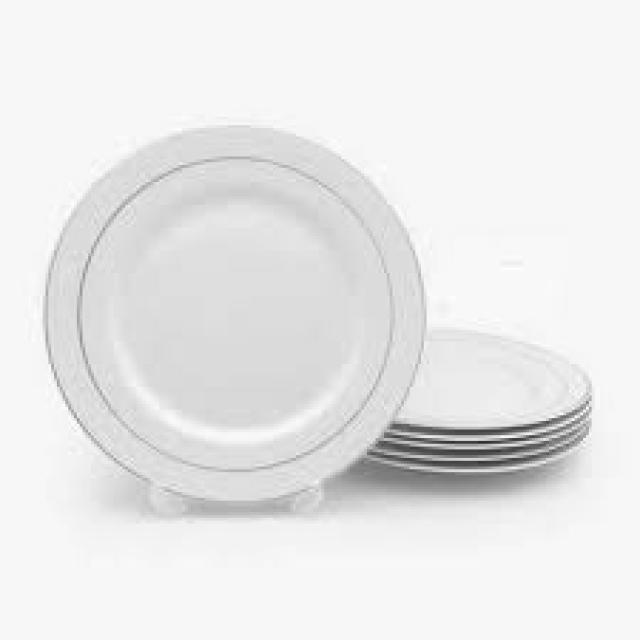dish: (22, 91, 626, 526)
